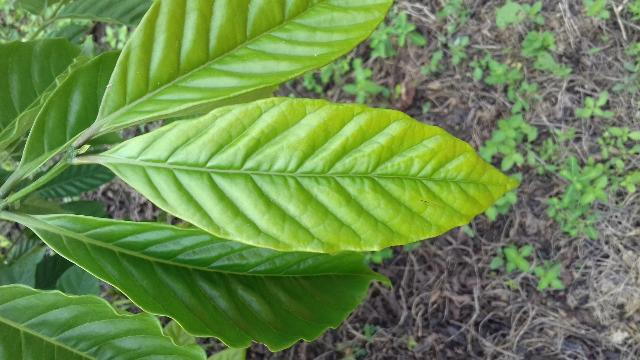healthy: (98, 97, 531, 251)
